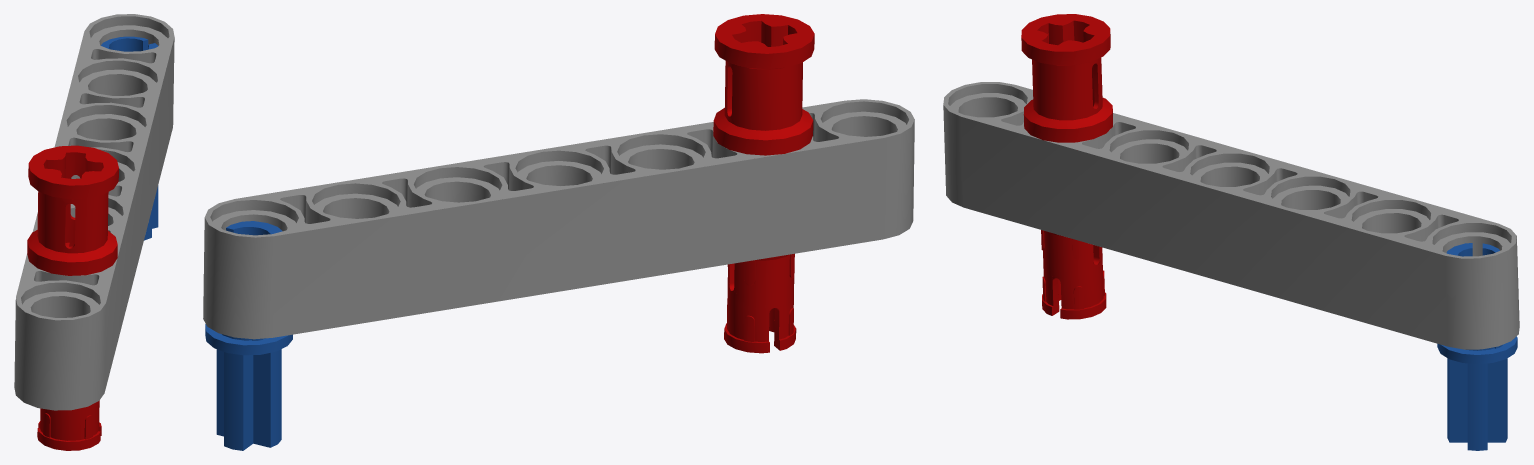
File: Left_core_holder.obj
3 views of the same model, side by side, from view 1: azimuth 30°, elevation 25°; view 2: azimuth 150°, elevation 25°; view 3: azimuth 270°, elevation 25° (orthographic). The views are drawn at different scales.
Parts seen in each view (by area): view 1: Piece001, Piece002, Piece000; view 2: Piece001, Piece002, Piece000; view 3: Piece001, Piece002, Piece000.
Boxes of the visible parts, x1,y1,x2,y2 form: Piece001: [14, 14, 174, 410]; Piece002: [27, 145, 118, 450]; Piece000: [101, 36, 158, 240]; Piece001: [203, 99, 914, 339]; Piece002: [713, 14, 814, 353]; Piece000: [205, 221, 292, 450]; Piece001: [943, 82, 1519, 349]; Piece002: [1021, 14, 1112, 319]; Piece000: [1437, 243, 1517, 450].
Bounding box in the file's own units: 89.18 × 61.35 × 115.
